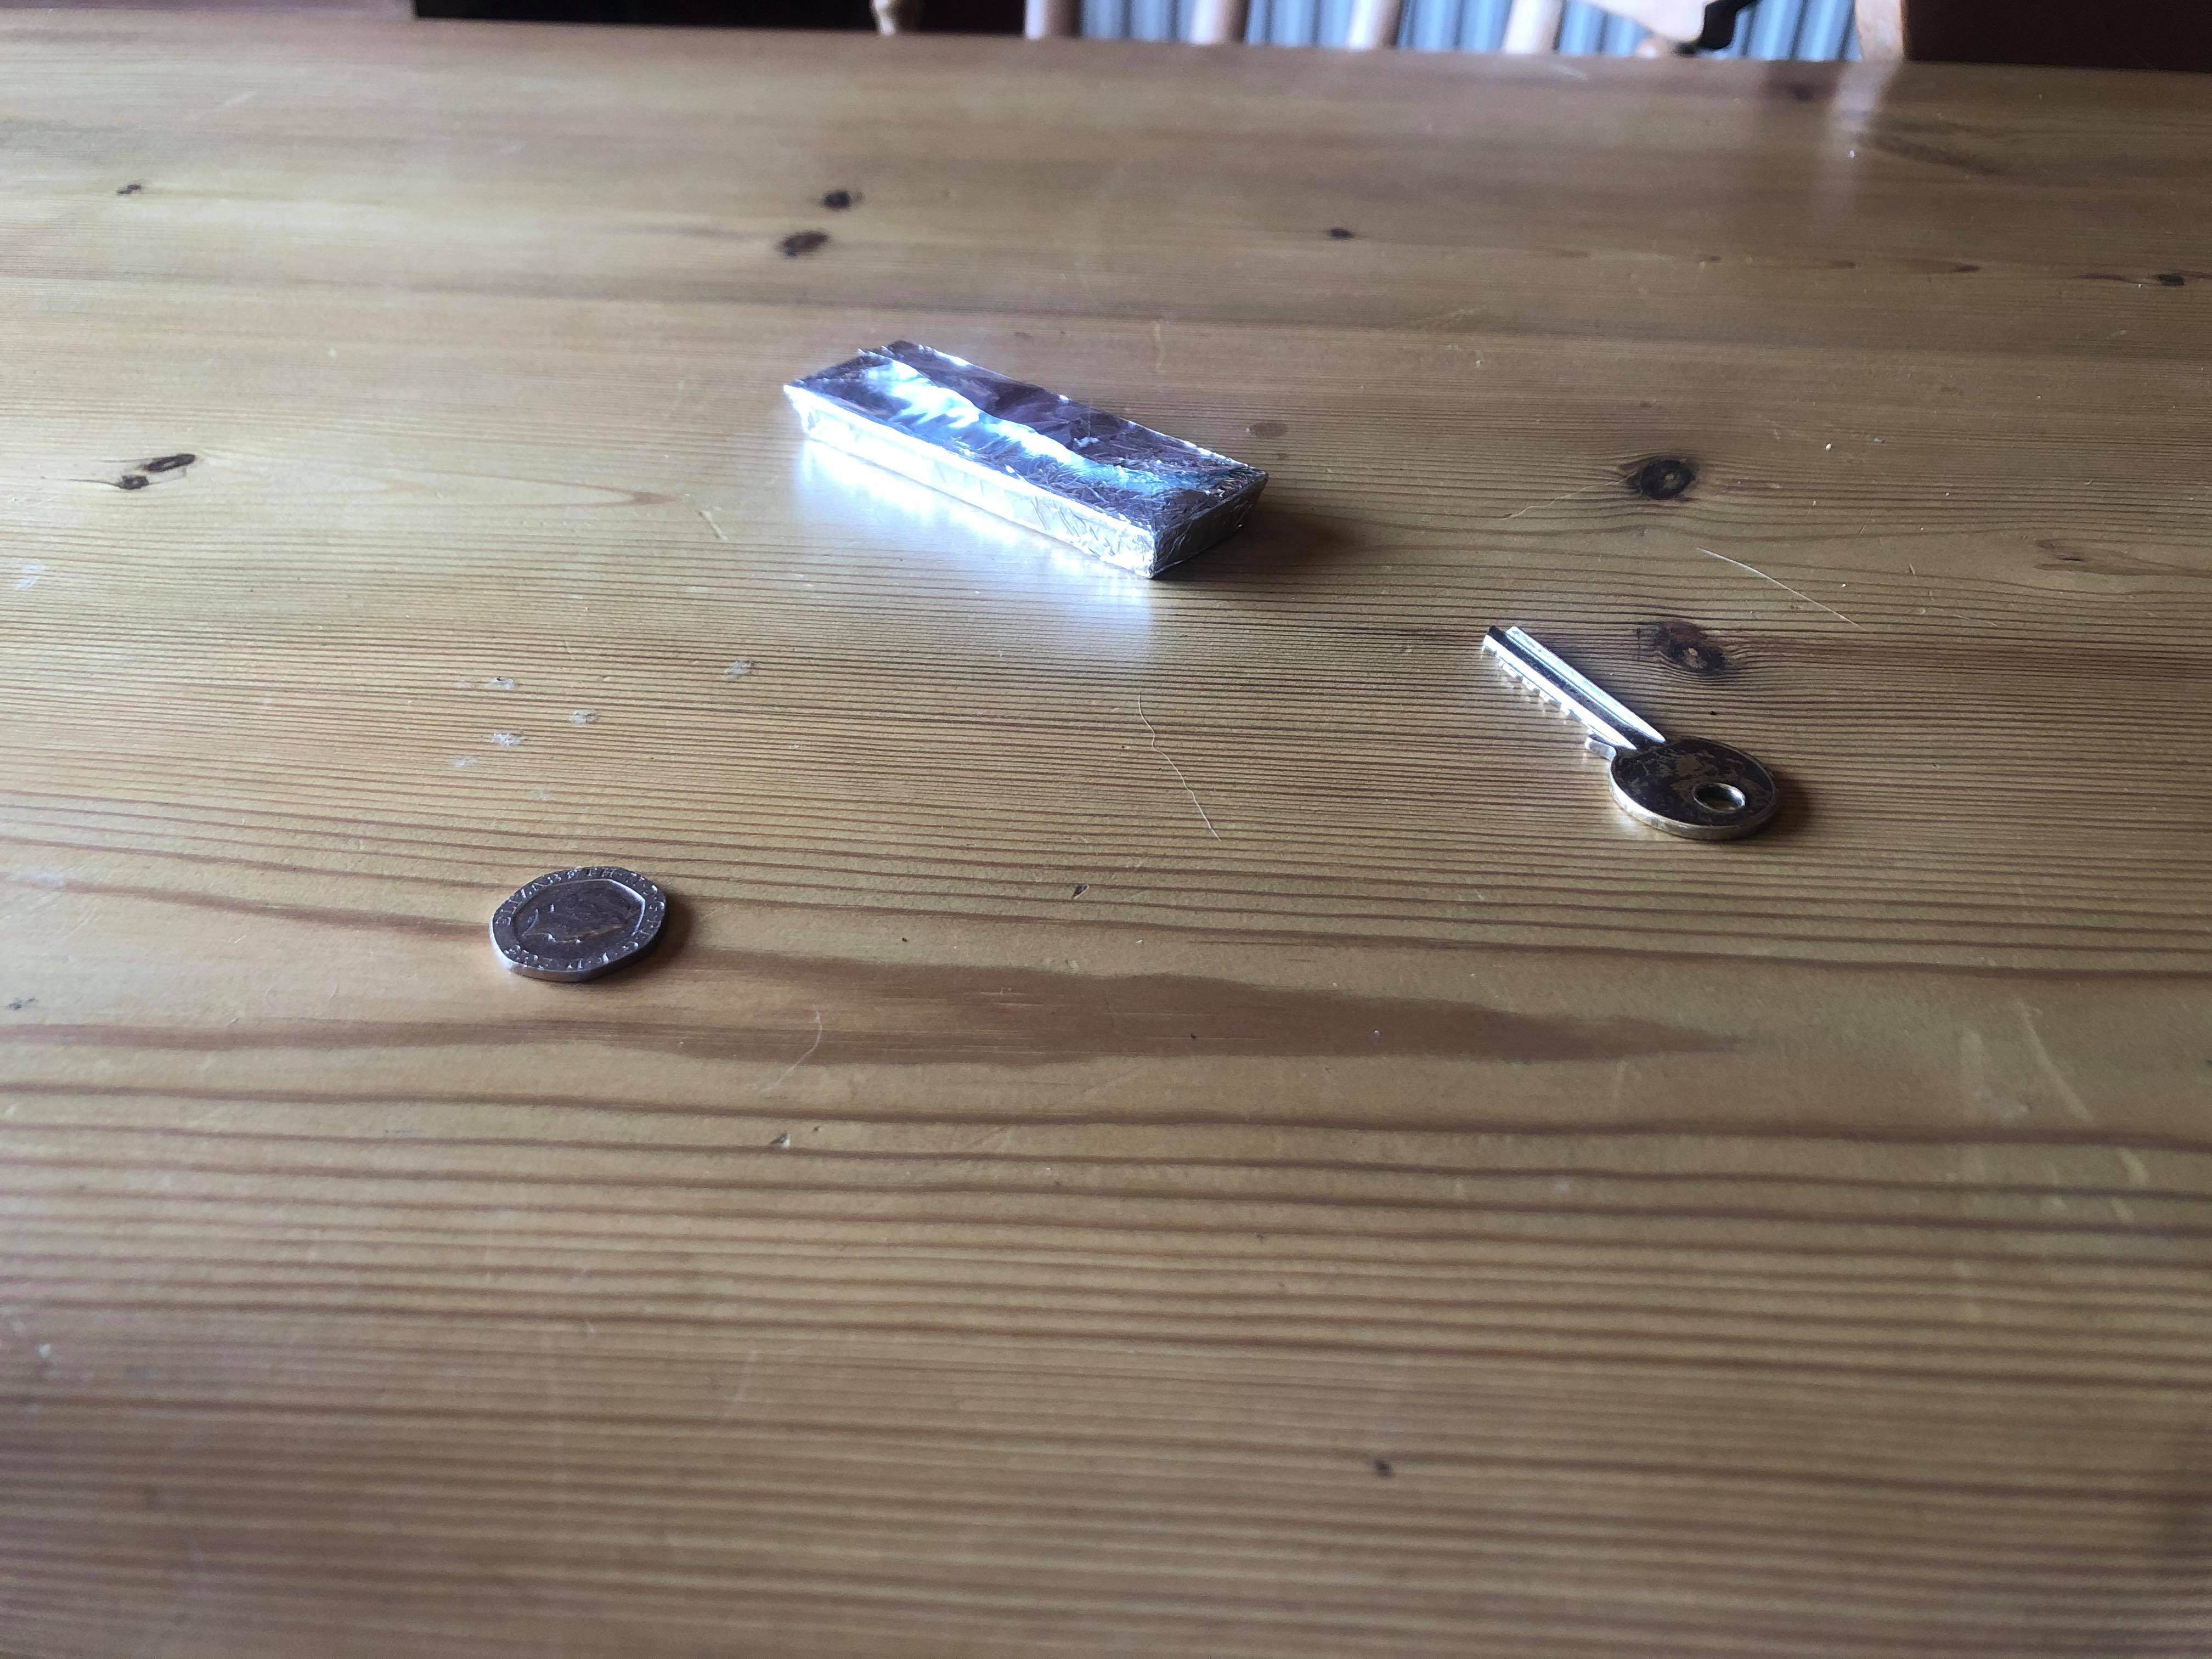Coin: (479, 863, 672, 979)
Foil: (772, 329, 1285, 584)
Key: (1460, 613, 1792, 850)
